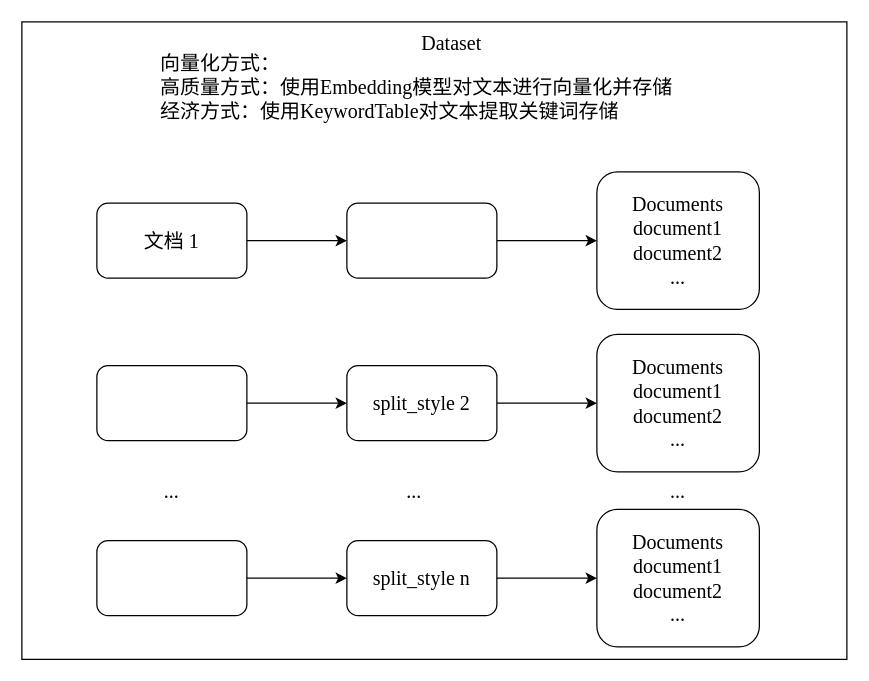
Some shapes in this 869 by 681 pixel diagram are drawn without their labels. The centre of each missing label's shape, as x and y in pixels:
split_style 1: the point at 421,240
文档 2: the point at 171,402
文档 n: the point at 171,577
